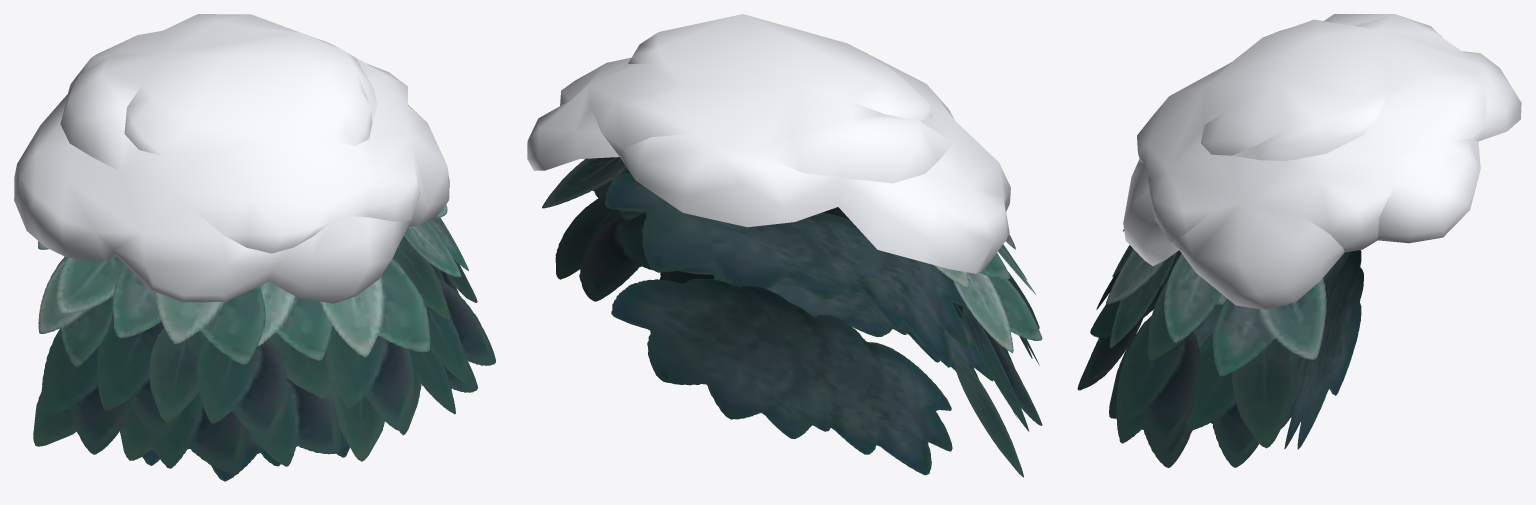
The model's file is white-azalea-winter.glb.
3 views of the same model, side by side, from view 1: azimuth 30°, elevation 25°; view 2: azimuth 150°, elevation 25°; view 3: azimuth 270°, elevation 25° (orthographic). The views are drawn at different scales.
Bounding box in the file's own units: 10.55 × 8.77 × 9.07.
Materials: 2 (1 with a texture image).
